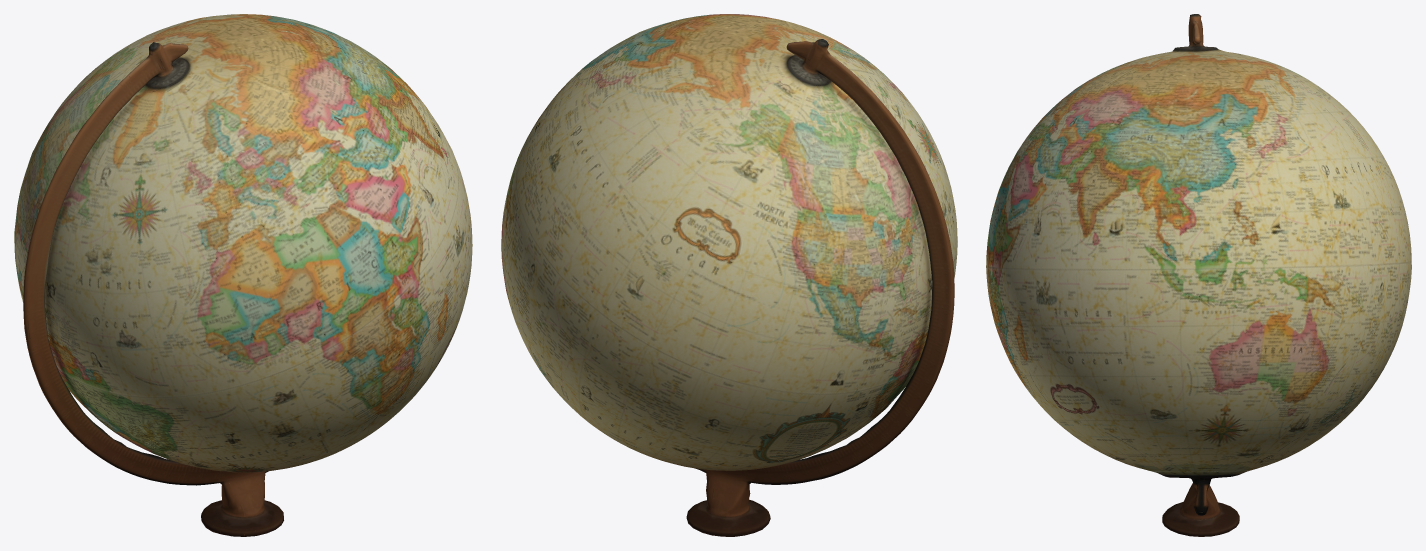
The model's file is globe.glb.
The picture shows the model from 3 angles, left to right: view 1: azimuth 30°, elevation 25°; view 2: azimuth 150°, elevation 25°; view 3: azimuth 270°, elevation 25°; orthographic projection. The views are drawn at different scales.
Parts seen in each view (by area): view 1: Object_2; view 2: Object_2; view 3: Object_2.
Part boxes in pixels (bbox=[...]): Object_2: bbox=[14, 14, 472, 536]; Object_2: bbox=[501, 14, 957, 536]; Object_2: bbox=[986, 14, 1411, 536].
Bounding box in the file's own units: 4.59 × 5.23 × 4.32.
Materials: 1 (1 with a texture image).
